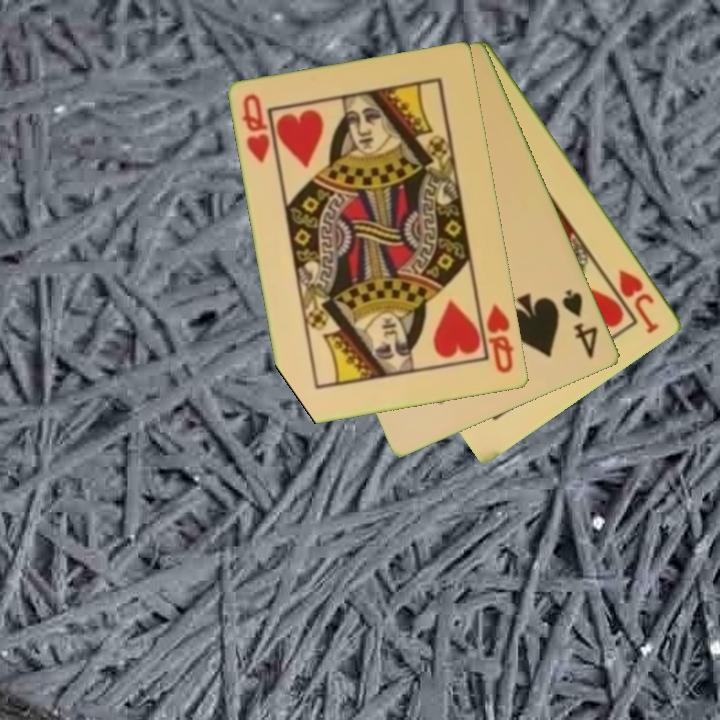4s: (559, 285, 602, 362)
Jh: (615, 266, 663, 337)
Qh: (477, 299, 517, 377), (239, 90, 274, 166)
